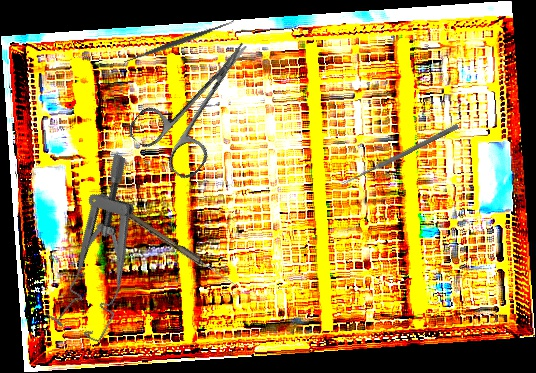Iris Scissors: (124, 20, 279, 184)
Spatula Surgical: (119, 15, 237, 70)
Speculum: (28, 151, 184, 347)
Surgical Spoon: (98, 192, 240, 290), (340, 122, 460, 188)
